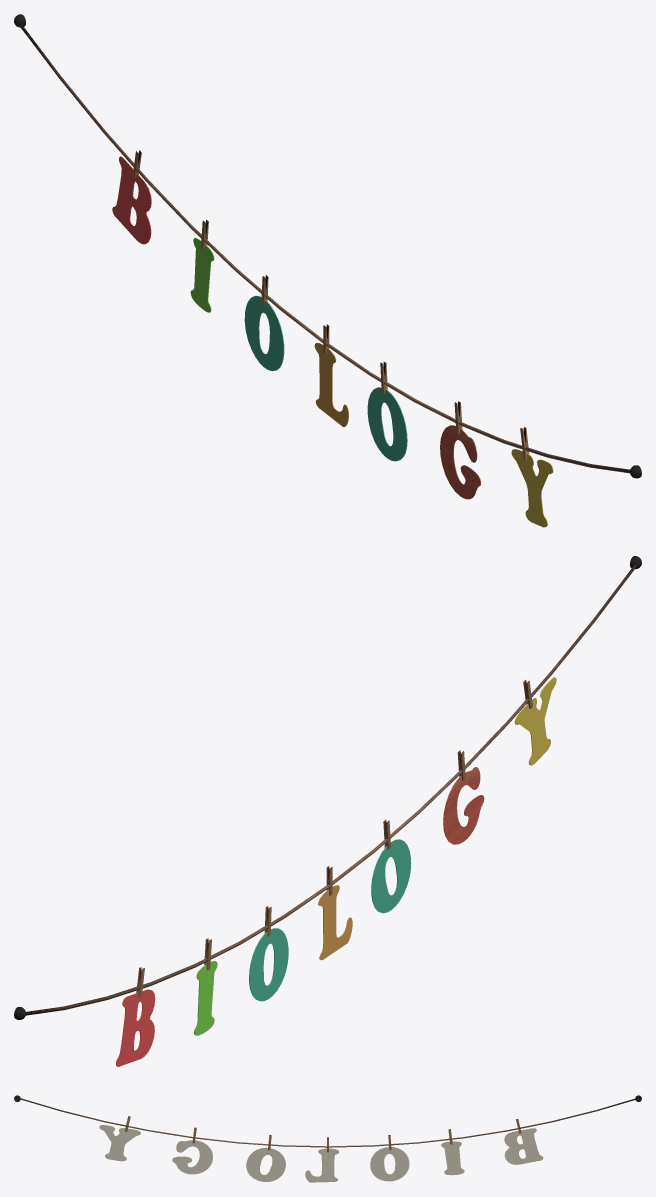
The model's file is SM_Hanging_Letters_01aBio.fbx.
The picture shows the model from 3 angles, top to bottom: view 1: azimuth 30°, elevation 25°; view 2: azimuth 150°, elevation 25°; view 3: azimuth 270°, elevation 25°; orthographic projection. The views are drawn at different scales.
Visible parts, largest first — view 1: SM_Hanging_Letters_01aBio_LOD0; view 2: SM_Hanging_Letters_01aBio_LOD0; view 3: SM_Hanging_Letters_01aBio_LOD0.
Boxes of the visible parts, <box> form: SM_Hanging_Letters_01aBio_LOD0: <box>14,14,641,527</box>; SM_Hanging_Letters_01aBio_LOD0: <box>14,556,641,1066</box>; SM_Hanging_Letters_01aBio_LOD0: <box>14,1095,641,1182</box>.
Bounding box in the file's own units: 1.52 × 201 × 30.93.
